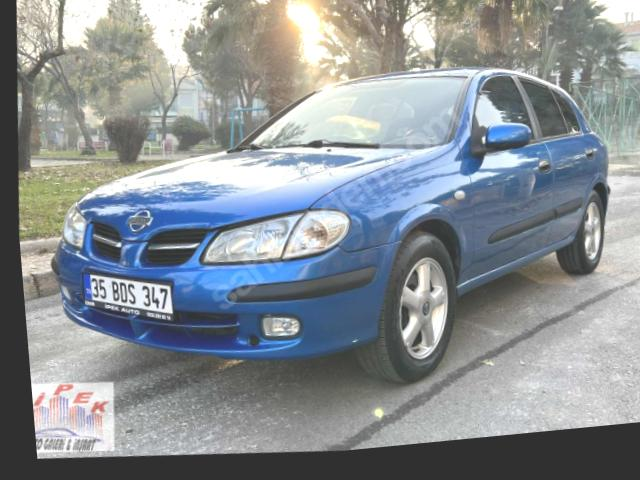plaka: (85, 274, 173, 319)
